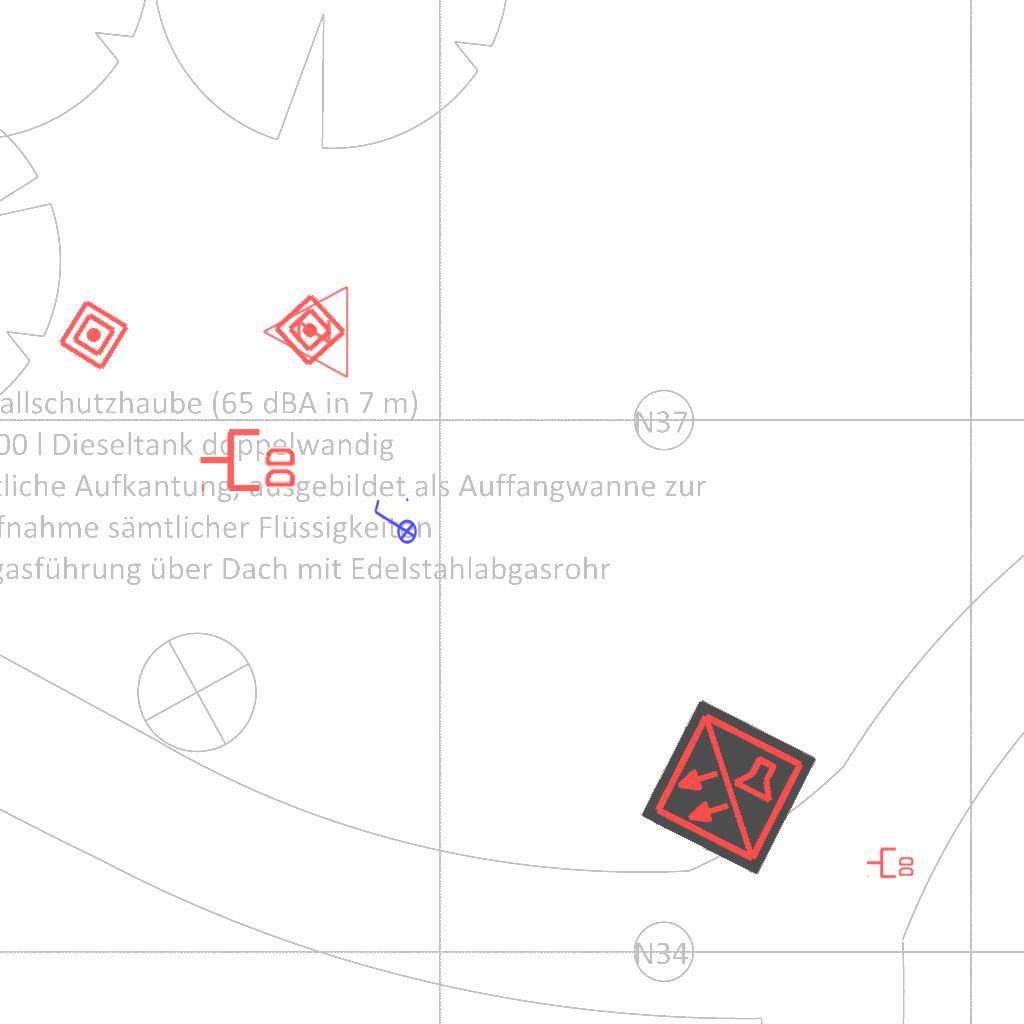Ausschalter_beleuchtet: (370, 495, 418, 551)
Datenanschluss_zweifach: (197, 424, 300, 493), (865, 845, 916, 879)
NAM-Nichtautomatischer_Melder: (270, 290, 350, 370), (55, 296, 133, 374)
OKW_Multisensormelder_(Kombination_optischer_Rauch-Kahlenmonoxid_Waerme-Melder): (639, 698, 817, 876)
Zimmersignalleuchte: (256, 284, 356, 382)
